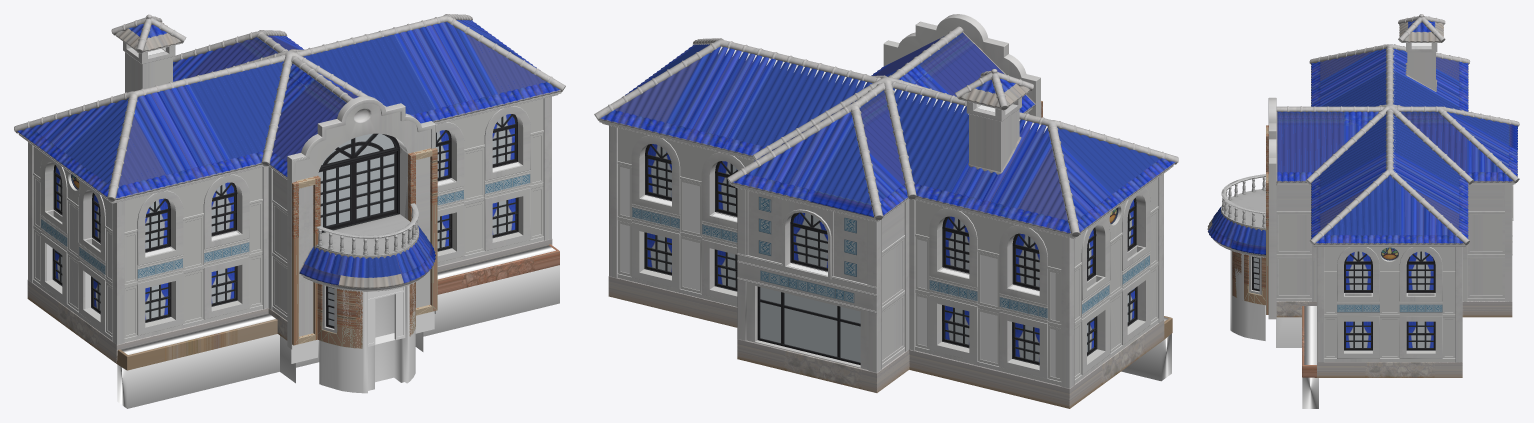
The model's file is objects_un_t01house02.gltf.
The picture shows the model from 3 angles, left to right: view 1: azimuth 30°, elevation 25°; view 2: azimuth 150°, elevation 25°; view 3: azimuth 270°, elevation 25°; orthographic projection. The views are drawn at different scales.
Parts seen in each view (by area): view 1: um_objects_un_t01house02_model_lod0Shape:objects_un_t01house (×6), wallset02_shape:objects_un_t01house02_wall01_bld, roof08_shape:objects_un_t01house02_roof01_bld1, wall01_entrance01_shape:objects_un_t01house02_wall01_bld, wall01_base01_shape:objects_un_t01house02_wall01_bld, roof01_lod0_shape:objects_un_t01house02_roof02_bld, roof07_shape:objects_un_t01house02_roof01_bld1, um_objects_un_t01house02_model_lod1Shape:objects_un_t01house (×3), um_objects_un_t01house02_model_lod2Shape:objects_un_t01house (×3), brick01_wall02_shape:objects_un_t01house02_brick01_bld, roof08_shape:objects_un_t01house02_roof02_bld, roof02_entrance_shape:objects_un_t01house02_roof01_bld1 (+9 smaller); view 2: um_objects_un_t01house02_model_lod0Shape:objects_un_t01house (×6), wallset02_shape:objects_un_t01house02_wall01_bld, roof06_shape:objects_un_t01house02_roof01_bld1, um_objects_un_t01house02_model_lod1Shape:objects_un_t01house (×4), wall01_back01_shape:objects_un_t01house02_wall01_bld, wall01_base01_shape:objects_un_t01house02_wall01_bld, roof01_lod0_shape:objects_un_t01house02_roof02_bld, roof07_shape:objects_un_t01house02_roof01_bld1, um_objects_un_t01house02_model_lod2Shape:objects_un_t01house (×2), roof04_shape:objects_un_t01house02_roof01_bld1, roof06_shape:objects_un_t01house02_roof02_bld, wall01_entrance01_shape:objects_un_t01house02_wall01_bld (+6 smaller); view 3: um_objects_un_t01house02_model_lod0Shape:objects_un_t01house (×6), wall01_base01_shape:objects_un_t01house02_wall01_bld, wallset02_shape:objects_un_t01house02_wall01_bld, roof07_shape:objects_un_t01house02_roof01_bld1, roof08_shape:objects_un_t01house02_roof01_bld1, roof01_lod0_shape:objects_un_t01house02_roof02_bld, roof06_shape:objects_un_t01house02_roof01_bld1, um_objects_un_t01house02_model_lod2Shape:objects_un_t01house (×2), um_objects_un_t01house02_model_lod1Shape:objects_un_t01house (×3), wall01_entrance01_shape:objects_un_t01house02_wall01_bld, roof05_shape:objects_un_t01house02_roof01_bld1, roof07_shape:objects_un_t01house02_roof02_bld (+13 smaller).
Boxes of the visible parts, x1,y1,x2,y2 form: um_objects_un_t01house02_model_lod0Shape:objects_un_t01house (×6): (27, 48, 559, 408); wallset02_shape:objects_un_t01house02_wall01_bld: (33, 98, 543, 342); roof08_shape:objects_un_t01house02_roof01_bld1: (118, 22, 546, 186); wall01_entrance01_shape:objects_un_t01house02_wall01_bld: (287, 96, 435, 349); wall01_base01_shape:objects_un_t01house02_wall01_bld: (18, 91, 561, 344); roof01_lod0_shape:objects_un_t01house02_roof02_bld: (14, 14, 565, 201); roof07_shape:objects_un_t01house02_roof01_bld1: (31, 20, 523, 184); um_objects_un_t01house02_model_lod1Shape:objects_un_t01house (×3): (28, 115, 558, 369); um_objects_un_t01house02_model_lod2Shape:objects_un_t01house (×3): (38, 130, 552, 363); brick01_wall02_shape:objects_un_t01house02_brick01_bld: (292, 148, 437, 345); roof08_shape:objects_un_t01house02_roof02_bld: (115, 82, 560, 199); roof02_entrance_shape:objects_un_t01house02_roof01_bld1: (304, 225, 430, 277); um_objects_un_t01house02_model_lod0Shape:objects_un_t01house (×6): (608, 46, 1172, 408); wallset02_shape:objects_un_t01house02_wall01_bld: (617, 128, 1158, 385); roof06_shape:objects_un_t01house02_roof01_bld1: (615, 46, 1067, 220); um_objects_un_t01house02_model_lod1Shape:objects_un_t01house (×4): (632, 144, 1172, 408); wall01_back01_shape:objects_un_t01house02_wall01_bld: (737, 188, 881, 372); wall01_base01_shape:objects_un_t01house02_wall01_bld: (599, 107, 1173, 388); roof01_lod0_shape:objects_un_t01house02_roof02_bld: (594, 26, 1178, 236); roof07_shape:objects_un_t01house02_roof01_bld1: (639, 32, 1160, 219); um_objects_un_t01house02_model_lod2Shape:objects_un_t01house (×2): (608, 145, 1164, 407); roof04_shape:objects_un_t01house02_roof01_bld1: (747, 112, 871, 204); roof06_shape:objects_un_t01house02_roof02_bld: (599, 110, 1070, 234); wall01_entrance01_shape:objects_un_t01house02_wall01_bld: (883, 14, 1041, 117); um_objects_un_t01house02_model_lod0Shape:objects_un_t01house (×6): (1221, 43, 1512, 408); wall01_base01_shape:objects_un_t01house02_wall01_bld: (1276, 182, 1515, 362); wallset02_shape:objects_un_t01house02_wall01_bld: (1324, 247, 1455, 361); roof07_shape:objects_un_t01house02_roof01_bld1: (1277, 111, 1454, 235); roof08_shape:objects_un_t01house02_roof01_bld1: (1312, 49, 1386, 230); roof01_lod0_shape:objects_un_t01house02_roof02_bld: (1276, 44, 1519, 245); roof06_shape:objects_un_t01house02_roof01_bld1: (1393, 49, 1459, 230); um_objects_un_t01house02_model_lod2Shape:objects_un_t01house (×2): (1276, 252, 1512, 377); um_objects_un_t01house02_model_lod1Shape:objects_un_t01house (×3): (1221, 176, 1454, 377); wall01_entrance01_shape:objects_un_t01house02_wall01_bld: (1213, 97, 1276, 319); roof05_shape:objects_un_t01house02_roof01_bld1: (1401, 111, 1503, 172); roof07_shape:objects_un_t01house02_roof02_bld: (1277, 172, 1464, 244).
Size of what is drawn, in the model's own units: 24.47 by 16.21 by 17.64.
14 materials, 11 textured.
